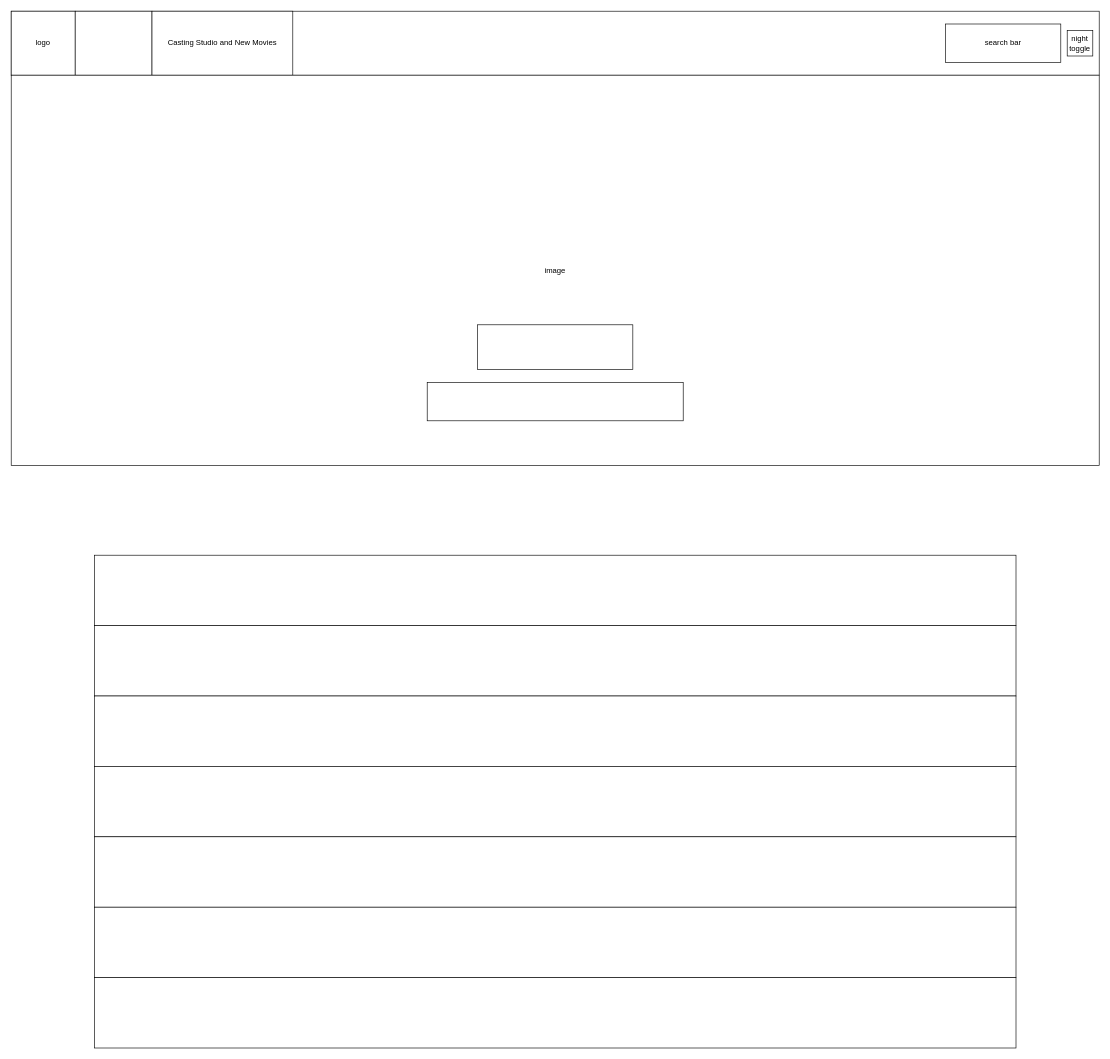
Some shapes in this 1110 by 1059 pixel diagram are drawn without their labels. The shapes that lost their labels are listed below. From the top down, each one's centre as x and y in pixels, then its label:
At (113,43): "about us".
At (555,347): "text (frequently asked questions)".
At (555,401): "description".
